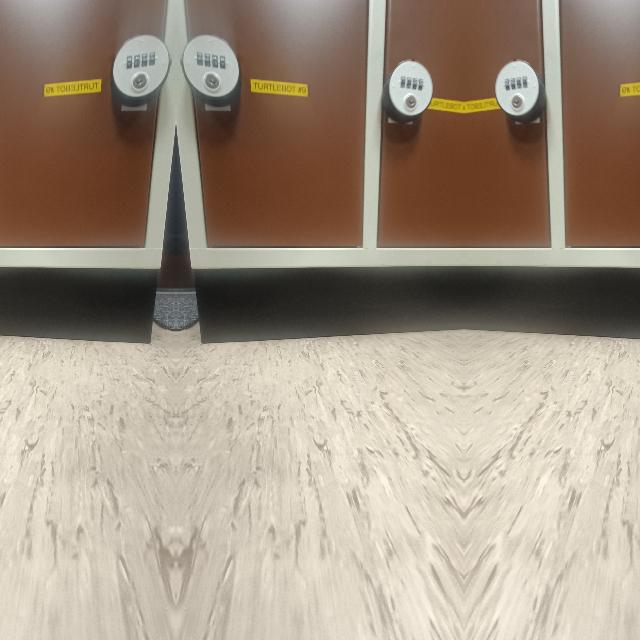obstacle: (180, 10, 462, 340), (465, 10, 640, 340), (0, 10, 170, 340)
